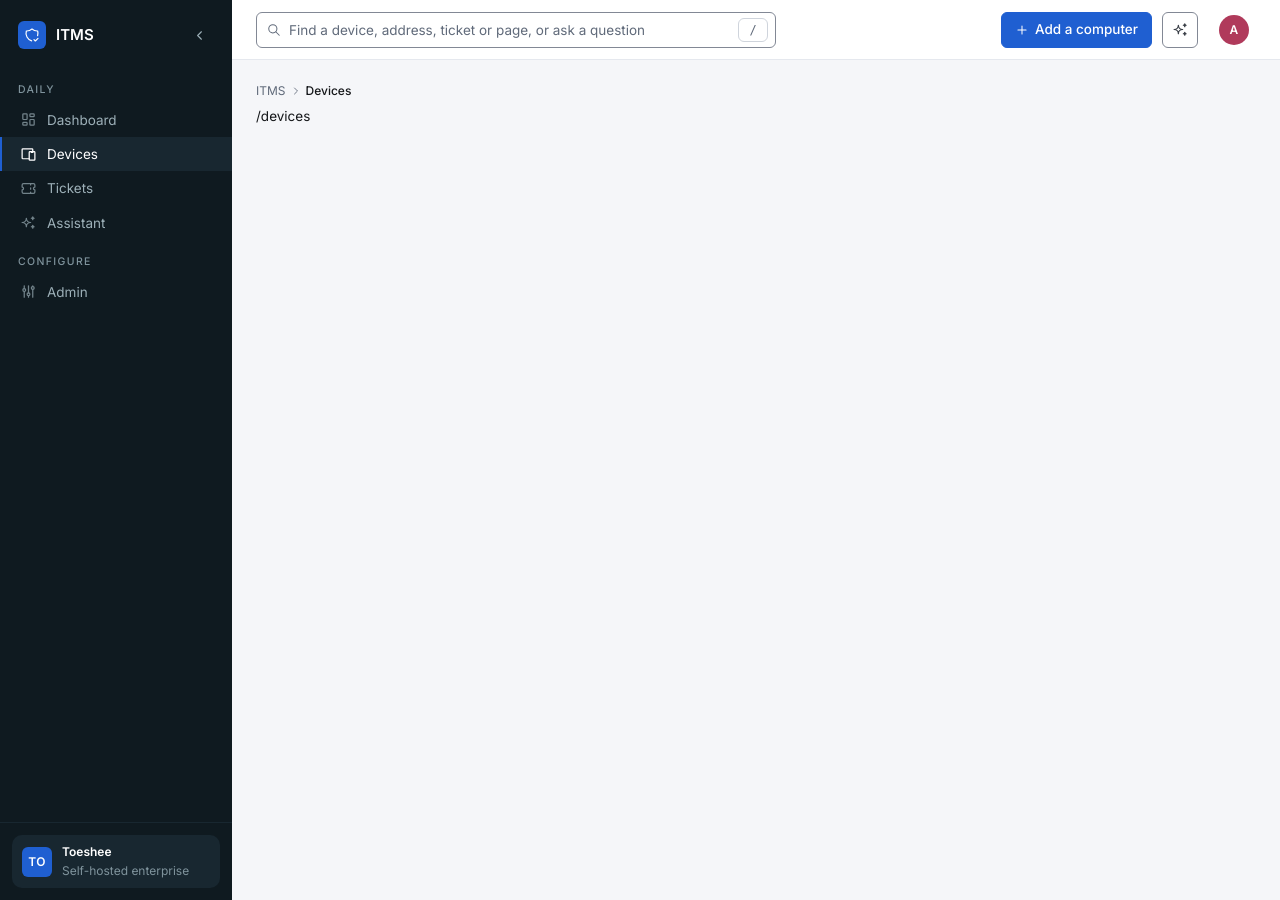
Test: the top-bar search finds records › waits for typing to settle before asking the server
Click the dropdown named "find or ask" at x=516, y=30, box [256, 12, 776, 48]
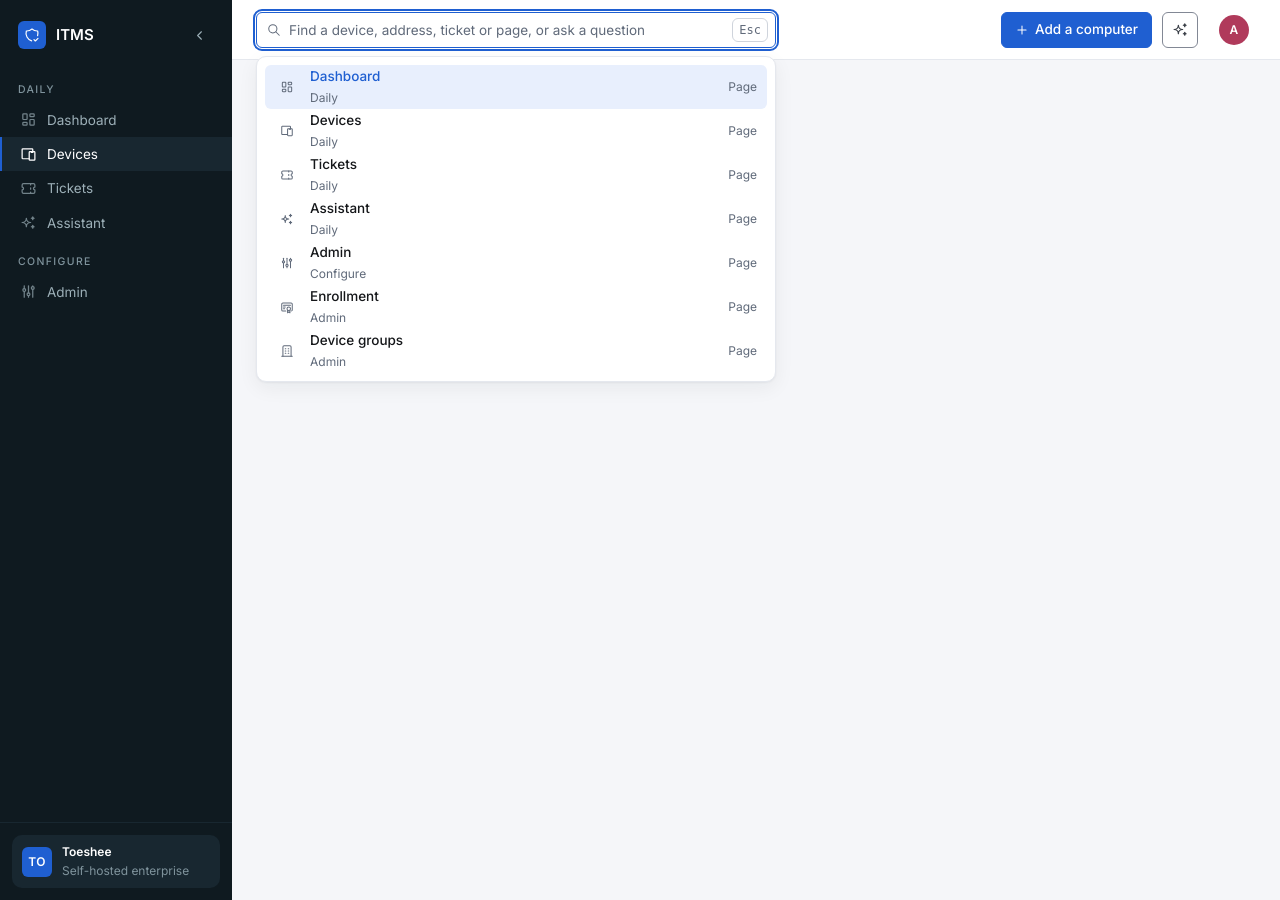
Type keys "por-ws"
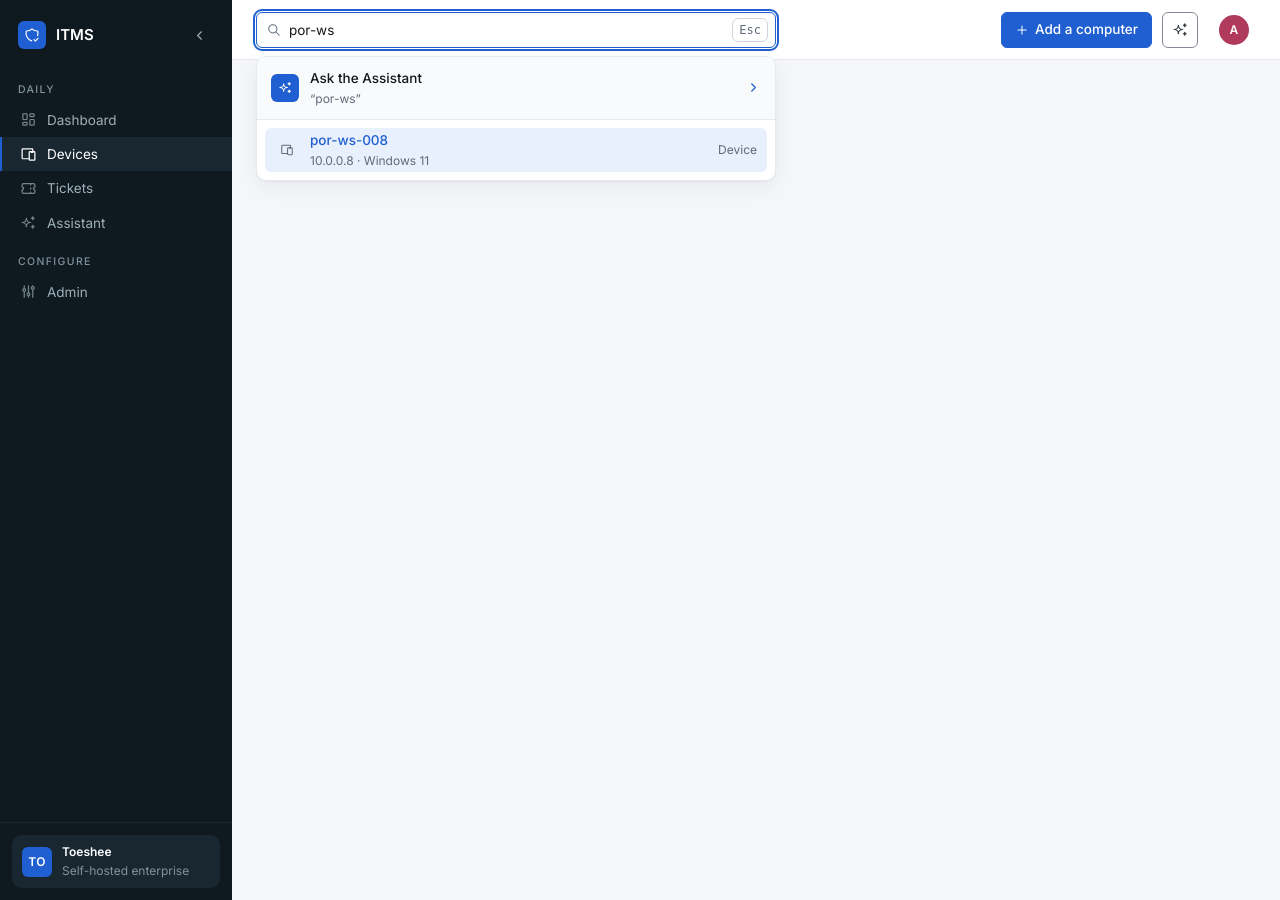
Result: the option "por-ws-008 10.0.0.8 · Windows 11 Device" is shown at [265, 128, 767, 172]
